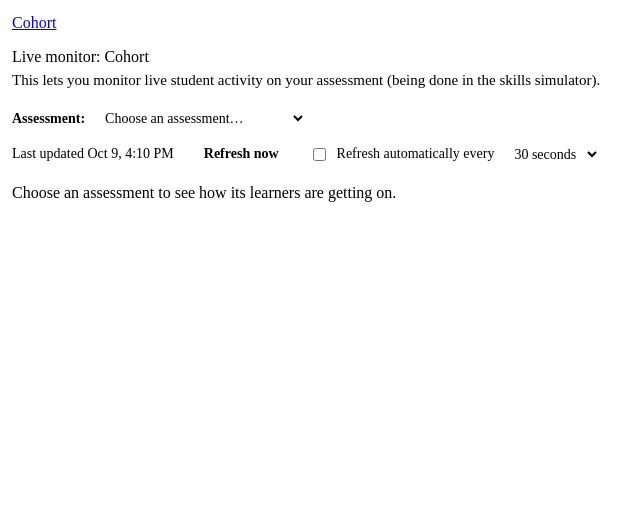
Test: MonitorPage › shows assessments, and SQL practice only when the cohort uses the sandbox
Check: the option "SQL practice" is not shown
Select "SQL practice" in the dropdown labelled "Assessment:" at (200, 118), box [93,105,306,132]
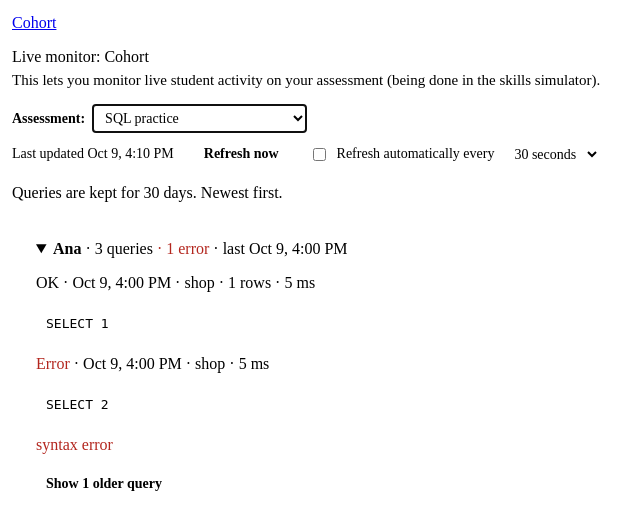
Check: the text "Queries are kept for 30 days. Newest first." is shown, box [12,184,283,201]
Check: the text "Ana" is shown, box [53,240,81,257]
